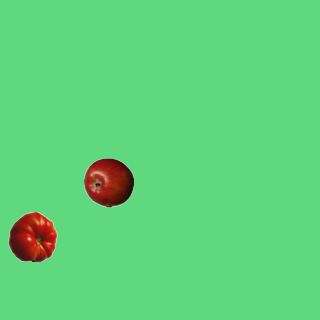Apple Braeburn: (83, 157, 133, 207)
Tomato 3: (7, 211, 57, 261)
